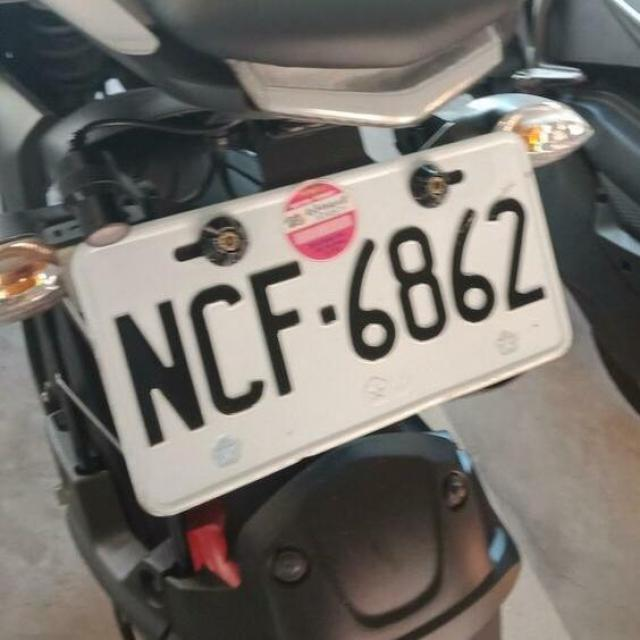W: (67, 108, 561, 509)
